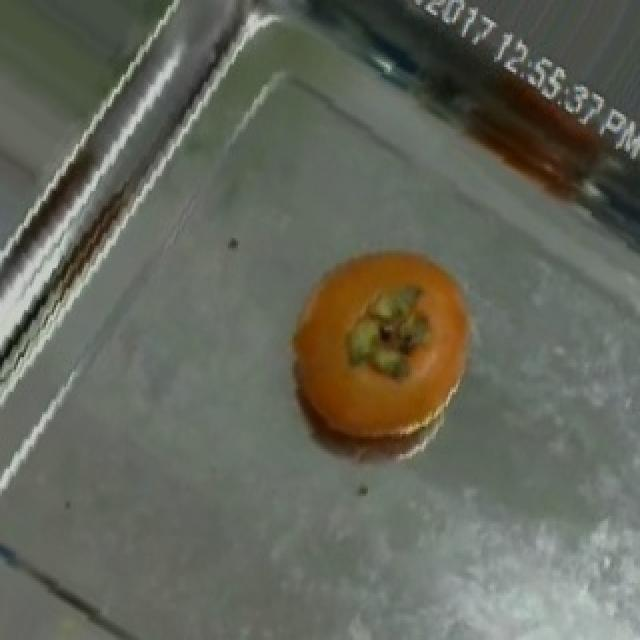Fruit: (266, 224, 494, 462)
